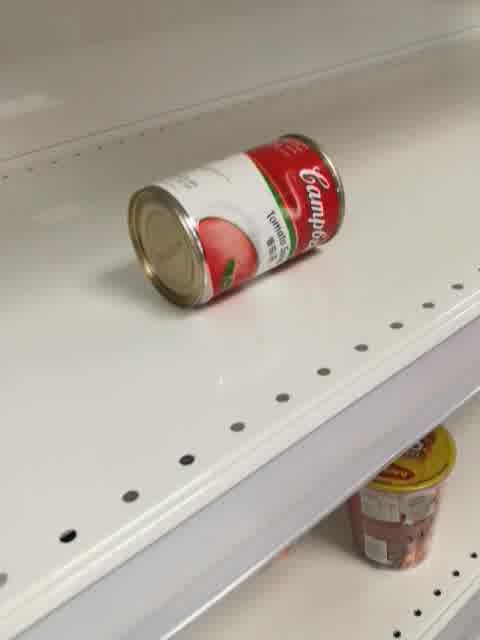tomatosoup: (125, 132, 345, 311)
